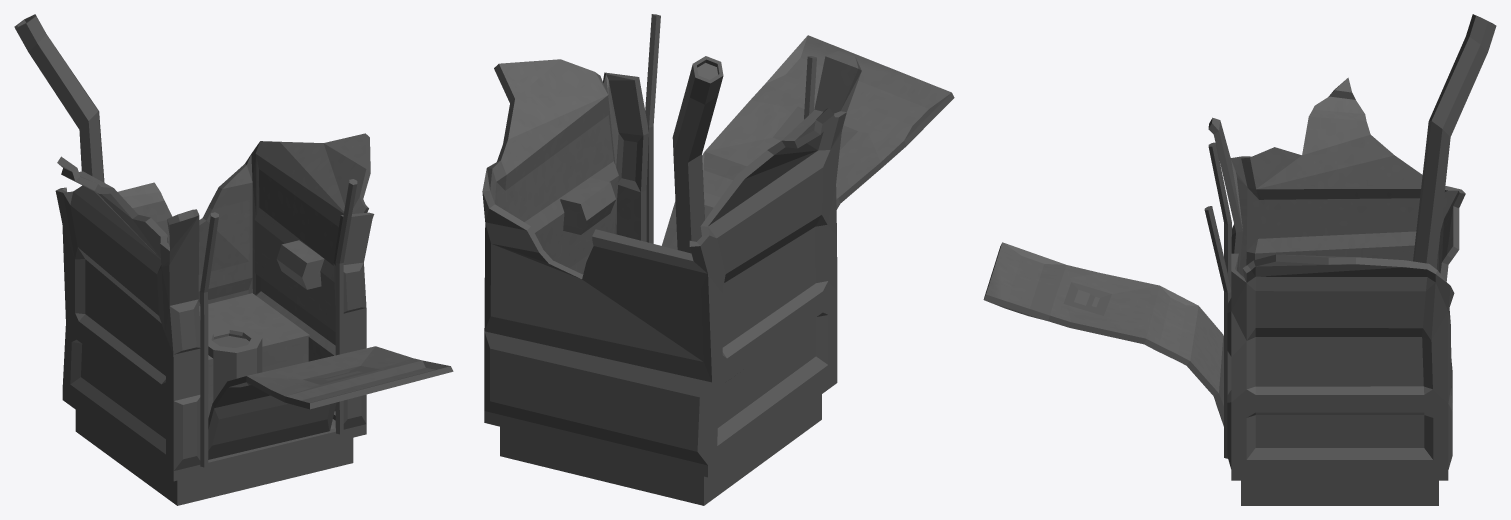
The model's file is SM_Prop_Portaloo_Destroyed_01.glb.
3 renders of one model, left to right at view 1: azimuth 30°, elevation 25°; view 2: azimuth 150°, elevation 25°; view 3: azimuth 270°, elevation 25°, orthographic. The views are drawn at different scales.
Visible parts, largest first — view 1: SM_Prop_Portaloo_Destroyed_01; view 2: SM_Prop_Portaloo_Destroyed_01; view 3: SM_Prop_Portaloo_Destroyed_01.
Boxes of the visible parts, left/top/right/bottom form: SM_Prop_Portaloo_Destroyed_01: left=14, top=14, right=453, bottom=505; SM_Prop_Portaloo_Destroyed_01: left=482, top=14, right=954, bottom=505; SM_Prop_Portaloo_Destroyed_01: left=983, top=14, right=1496, bottom=505.
Bounding box in the file's own units: 2.34 × 3 × 3.52.
Materials: 1 (1 with a texture image).
